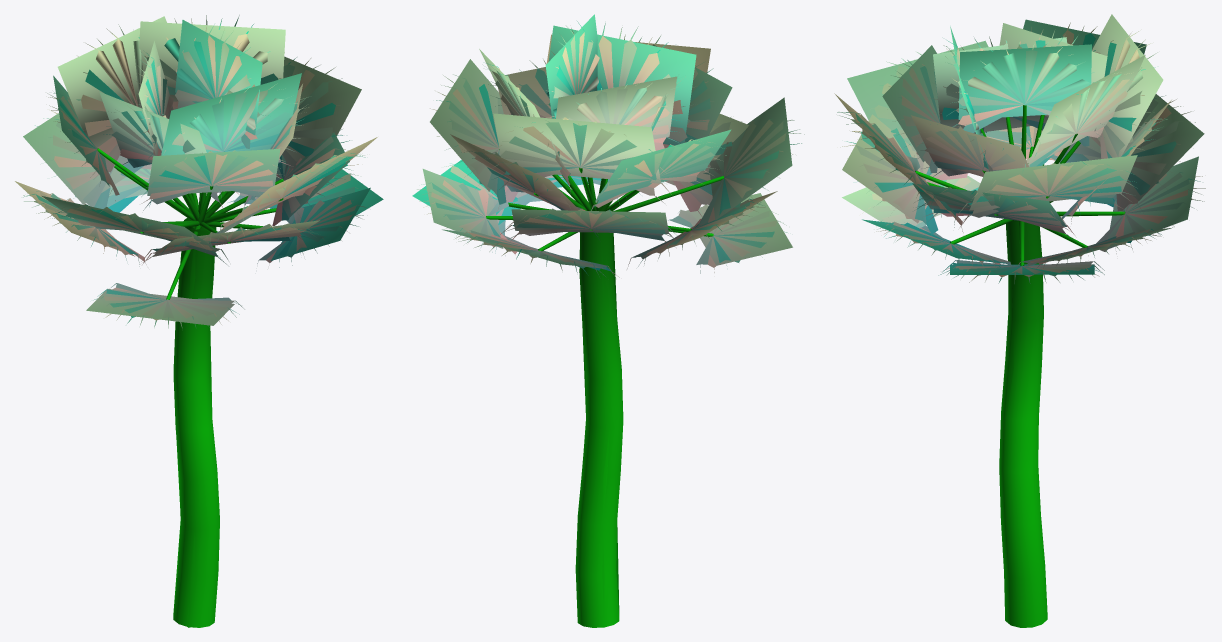
File: fan_palm_3.glb
3 views of the same model, side by side, from view 1: azimuth 30°, elevation 25°; view 2: azimuth 150°, elevation 25°; view 3: azimuth 270°, elevation 25° (orthographic). The views are drawn at different scales.
Visible parts, largest first — view 1: near, mid; view 2: near, mid; view 3: near, mid.
Part boxes in pixels (x1,y1,x2,y2): near: [23, 15, 366, 627]; mid: [15, 16, 383, 627]; near: [417, 21, 804, 627]; mid: [412, 14, 792, 627]; near: [837, 22, 1205, 627]; mid: [834, 14, 1204, 519].
Bounding box in the file's own units: 4.17 × 6.89 × 3.91.
